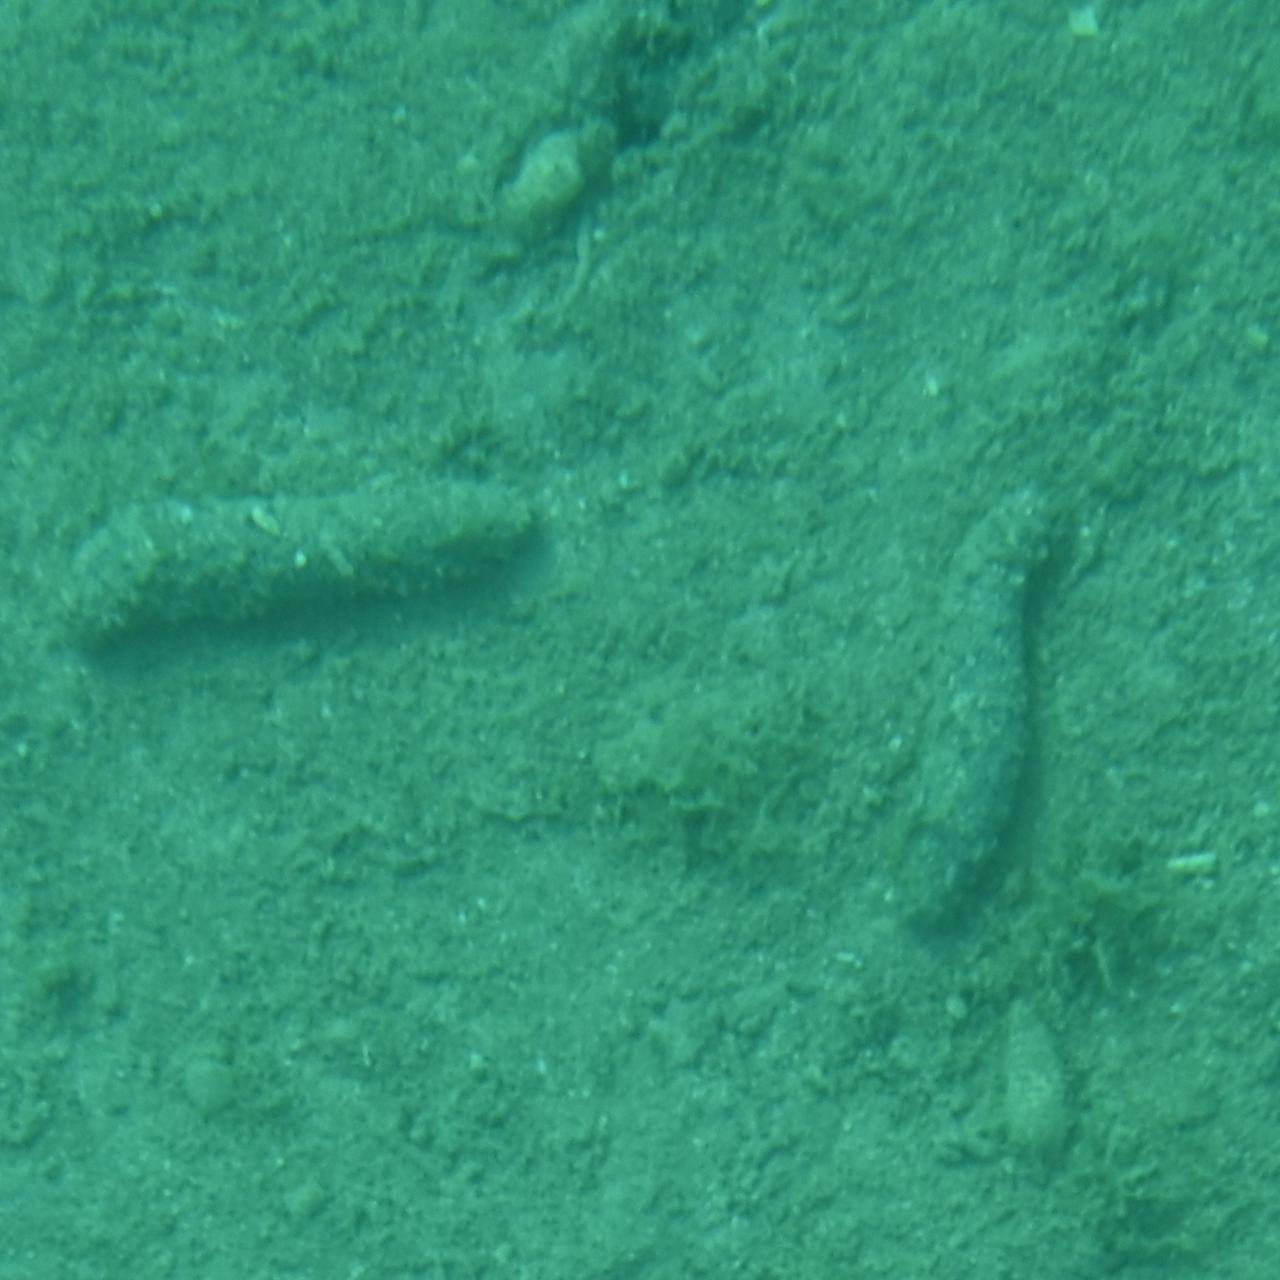Holothuria tubulosa: (53, 474, 544, 672), (879, 479, 1087, 937)
